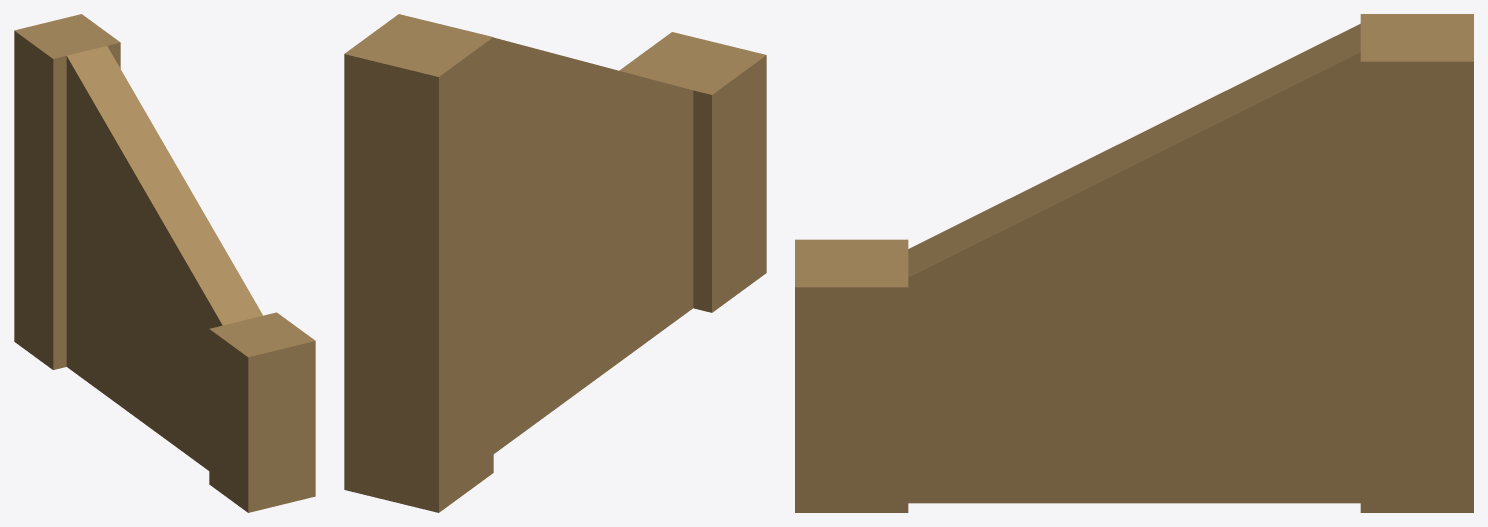
The model's file is wood_slanted_wall_01.glb.
The picture shows the model from 3 angles, left to right: view 1: azimuth 30°, elevation 25°; view 2: azimuth 150°, elevation 25°; view 3: azimuth 270°, elevation 25°; orthographic projection. The views are drawn at different scales.
Parts seen in each view (by area): view 1: Mesh1 Wood_Slanted_Wall Model; view 2: Mesh1 Wood_Slanted_Wall Model; view 3: Mesh1 Wood_Slanted_Wall Model.
Part boxes in pixels (<box>): Mesh1 Wood_Slanted_Wall Model: <box>14,14,315,512</box>; Mesh1 Wood_Slanted_Wall Model: <box>344,14,766,512</box>; Mesh1 Wood_Slanted_Wall Model: <box>795,14,1473,512</box>.
Size of the model in its own units: 0.5 by 2.2 by 3.
